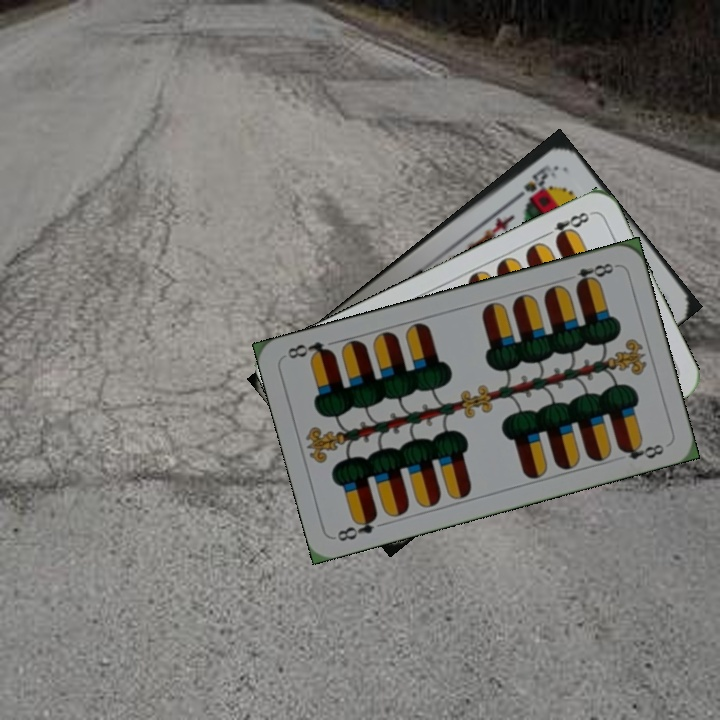E8: (539, 207, 594, 245), (333, 510, 380, 544), (572, 259, 619, 290)
SK: (508, 160, 559, 205)
